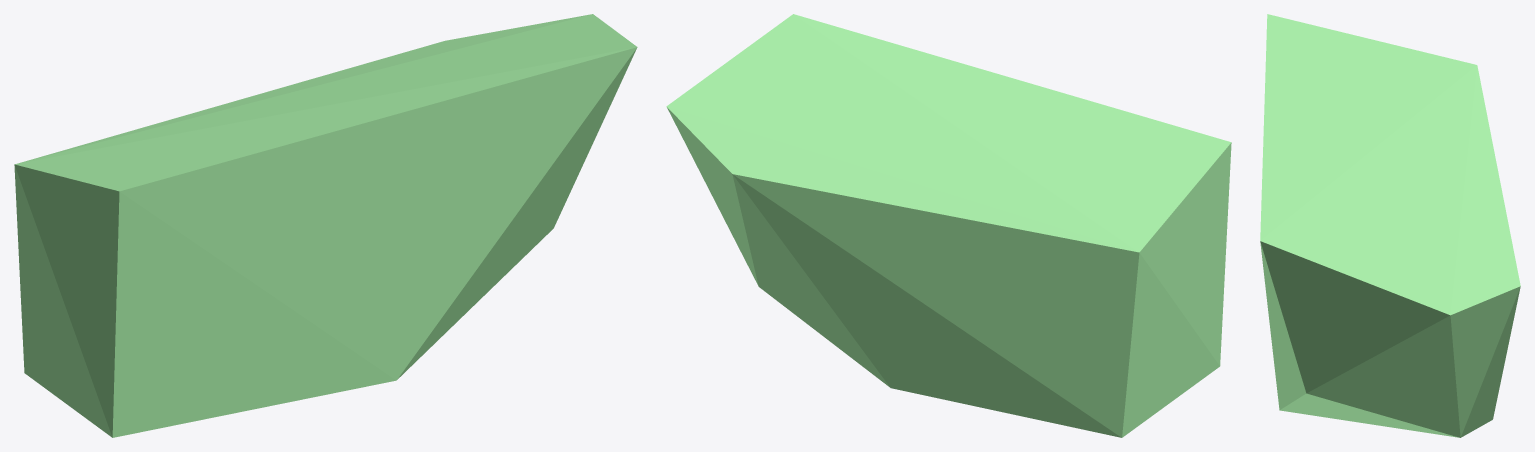
The model's file is xarm7_with_gripper_LR4_R560_link7_respondable_coll_10.dae.
3 views of the same model, side by side, from view 1: azimuth 30°, elevation 25°; view 2: azimuth 150°, elevation 25°; view 3: azimuth 270°, elevation 25° (orthographic). The views are drawn at different scales.
Parts seen in each view (by area): view 1: Node_000001B88F9E1200; view 2: Node_000001B88F9E1200; view 3: Node_000001B88F9E1200.
Boxes of the visible parts, x1,y1,x2,y2 form: Node_000001B88F9E1200: (14,14,637,437); Node_000001B88F9E1200: (666,14,1231,437); Node_000001B88F9E1200: (1260,14,1520,437).
Size of the model in its own units: 0.00998 by 0.00494 by 0.00402.
